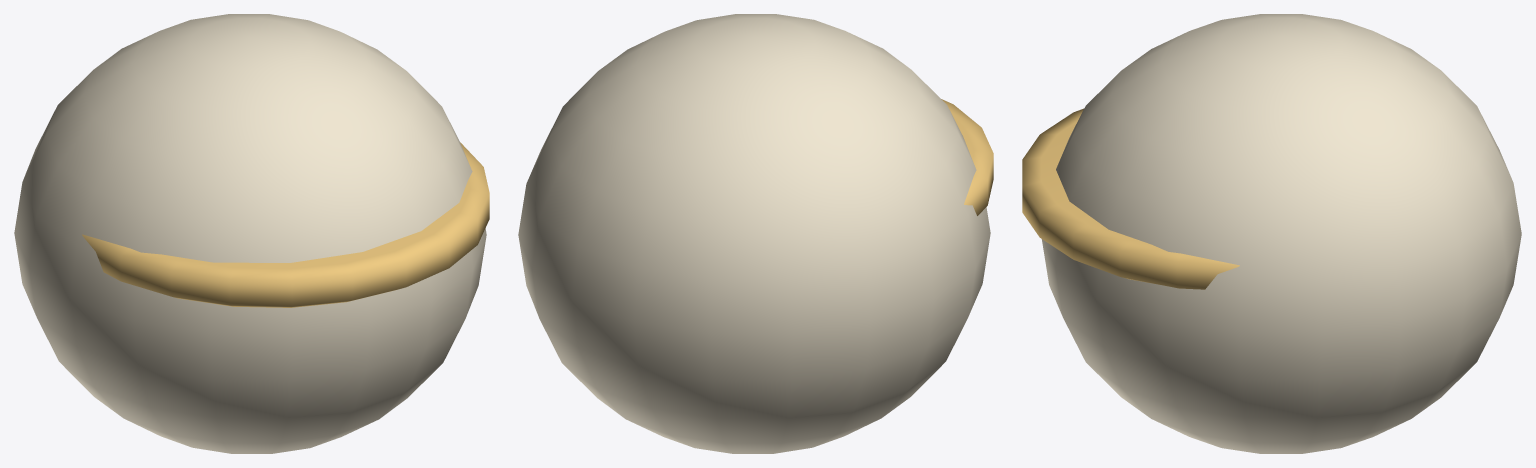
The model's file is hat_egypt_khat.glb.
3 renders of one model, left to right at view 1: azimuth 30°, elevation 25°; view 2: azimuth 150°, elevation 25°; view 3: azimuth 270°, elevation 25°, orthographic.
Visible parts, largest first — view 1: KhatDraped, KhatCirclet; view 2: KhatDraped, KhatCirclet; view 3: KhatDraped, KhatCirclet.
Boxes of the visible parts, left/top/right/bottom form: KhatDraped: left=14, top=14, right=486, bottom=453; KhatCirclet: left=82, top=142, right=489, bottom=307; KhatDraped: left=518, top=14, right=990, bottom=453; KhatCirclet: left=941, top=99, right=993, bottom=215; KhatDraped: left=1041, top=14, right=1521, bottom=453; KhatCirclet: left=1022, top=108, right=1239, bottom=289.
Bounding box in the file's own units: 0.2417 × 0.2266 × 0.2599.
